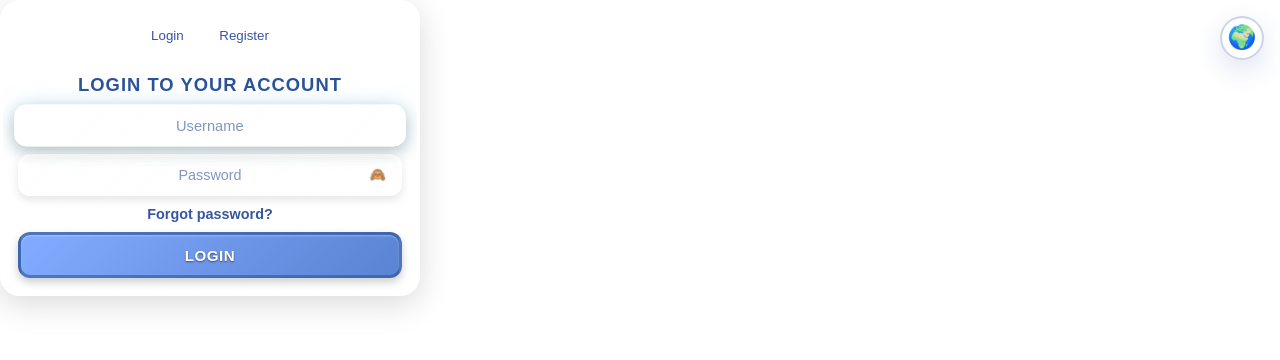
AuthMenu › validates login and maps login errors
Click the button with class "submit-button" at {"x": 210, "y": 255}, box [18,232,402,278]
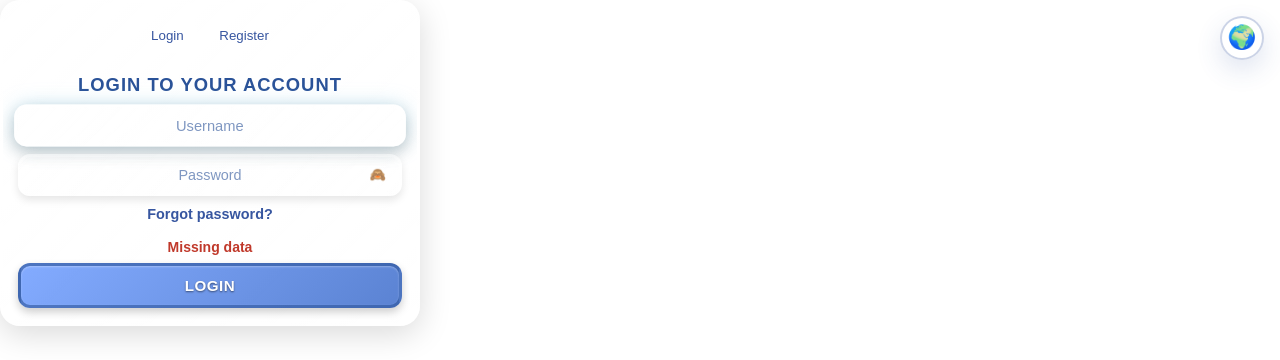
Now the text "Missing data" is shown, box [168,239,252,255]
Type "Titi" into the field with placeholder "Username" at {"x": 210, "y": 126}, box [14,105,406,147]
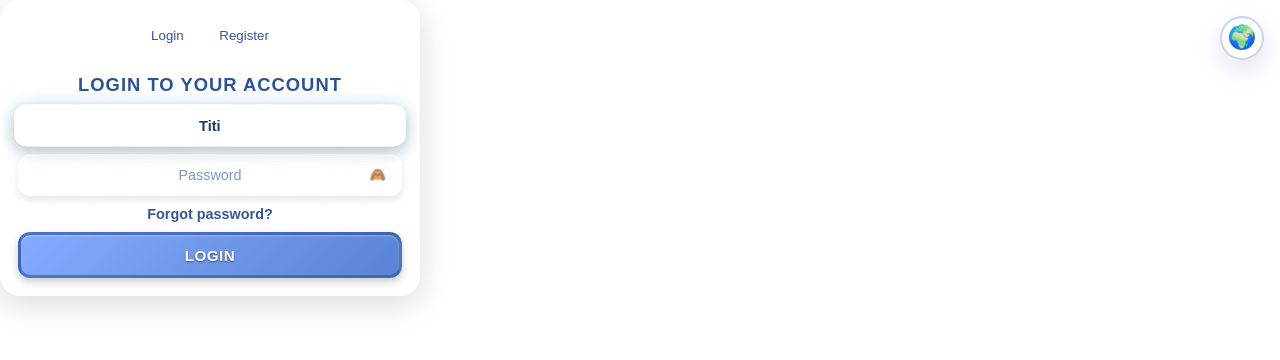
Type "bad" into the password field with placeholder "Password" at {"x": 210, "y": 175}, box [18,154,402,196]
Click the button with class "submit-button" at {"x": 210, "y": 255}, box [18,232,402,278]
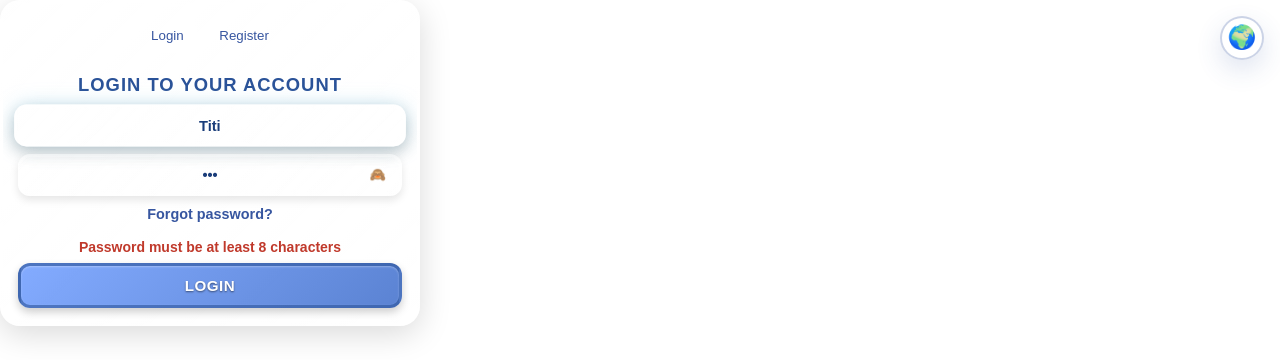
Now the text "Password must be at least 8 characters" is shown, box [79,239,341,255]
Type "Secret123!" into the password field with placeholder "Password" at {"x": 210, "y": 175}, box [18,154,402,196]
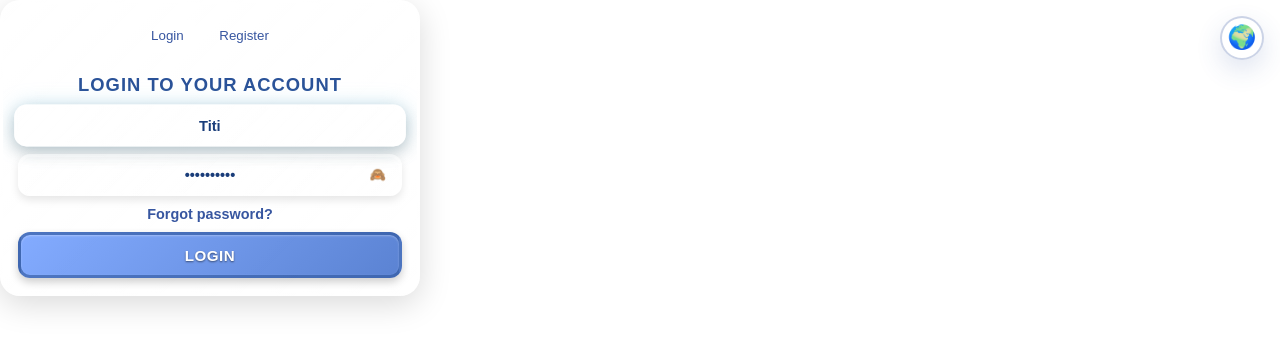
Click the button with class "submit-button" at {"x": 210, "y": 255}, box [18,232,402,278]
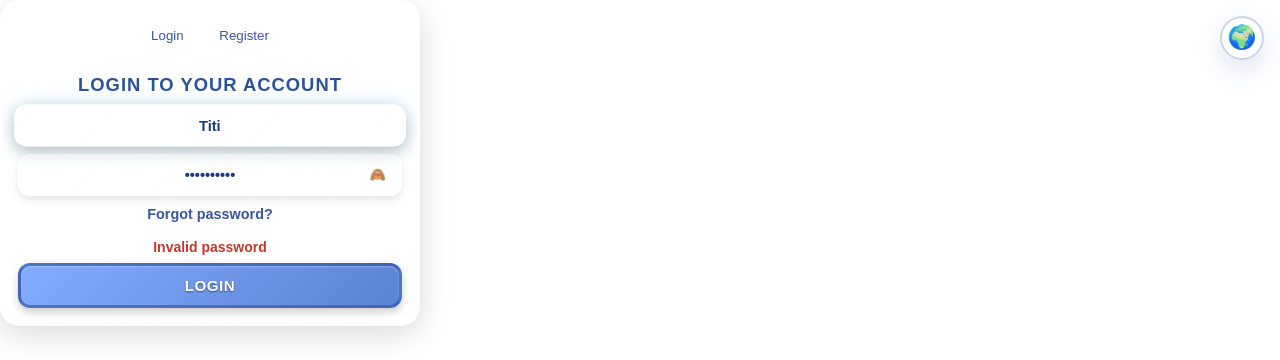
Now the text "Invalid password" is shown, box [153,239,267,255]
Click the button with class "submit-button" at {"x": 210, "y": 285}, box [18,263,402,308]
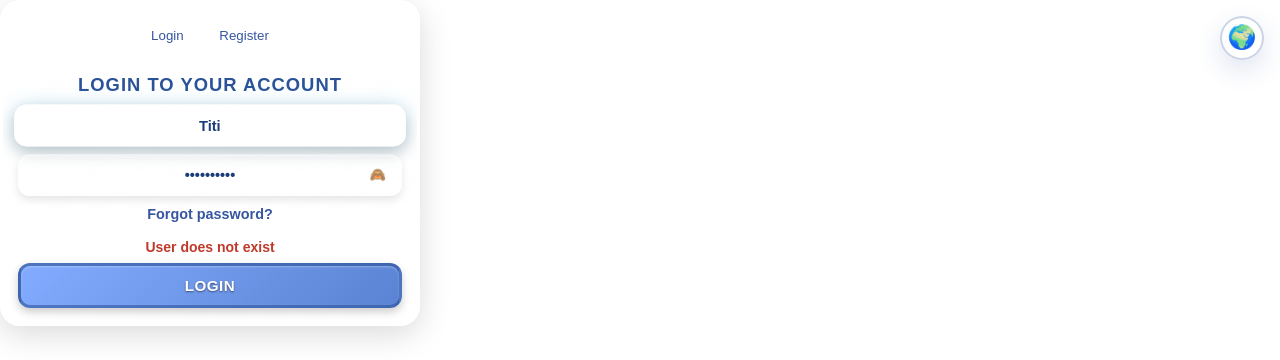
Now the text "User does not exist" is shown, box [145,239,275,255]
